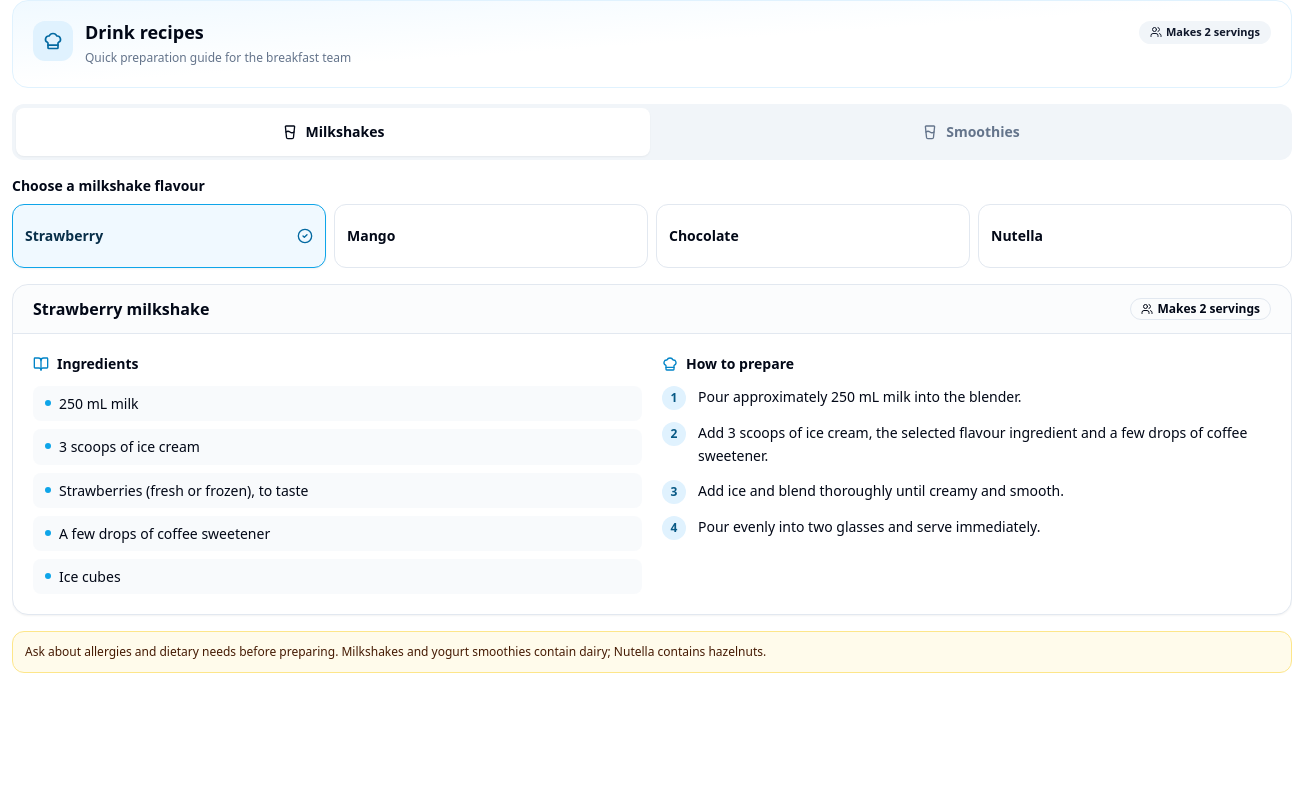
Test case: BreakfastRecipes › makes each of the three smoothie methods available
Click the button "Smoothies" at (971, 132), box [654,108,1288,156]
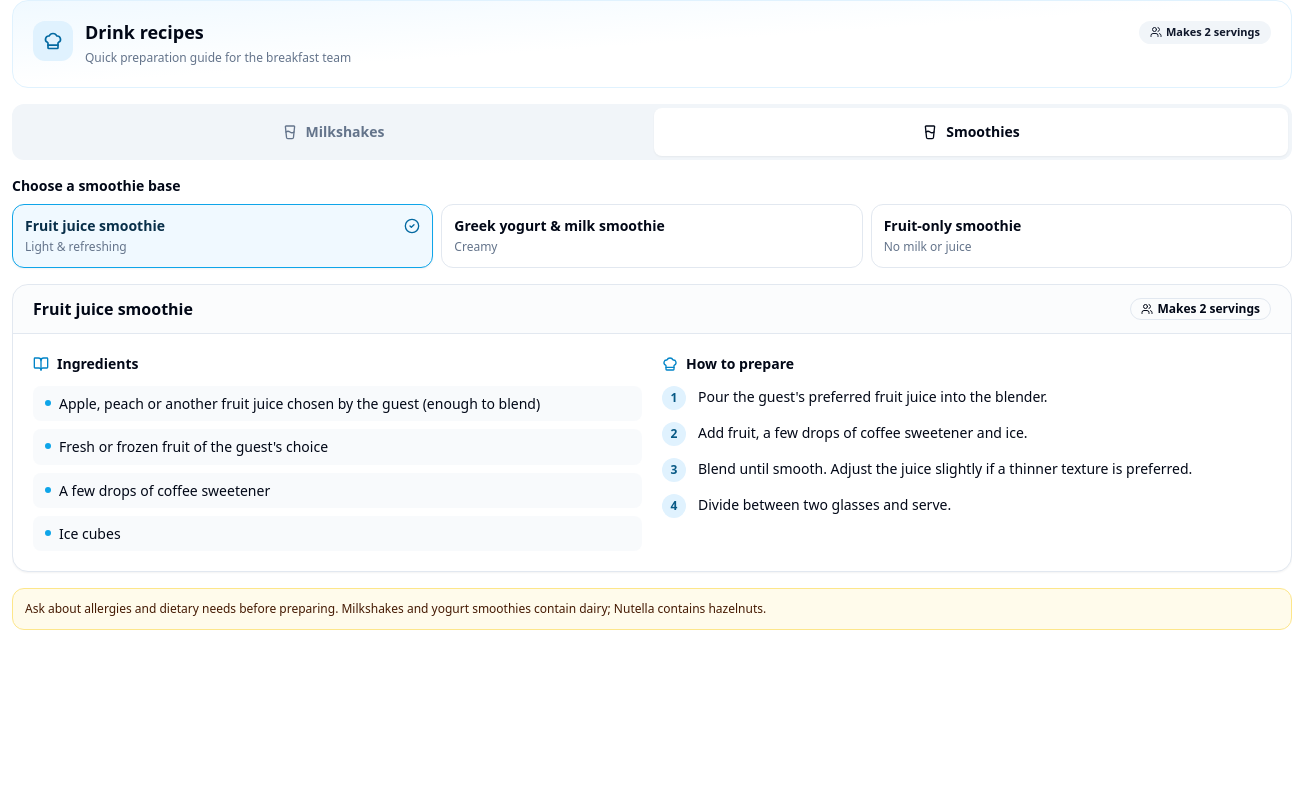
Expected: the button "Fruit juice smoothie Light & refreshing" is shown, [12,204,433,268]
Expected: the button "Greek yogurt & milk smoothie Creamy" is shown
Expected: the button "Fruit-only smoothie No milk or juice" is shown, [871,204,1292,268]
Click the button "Greek yogurt & milk smoothie Creamy" at (652, 236), box [441,204,863,268]
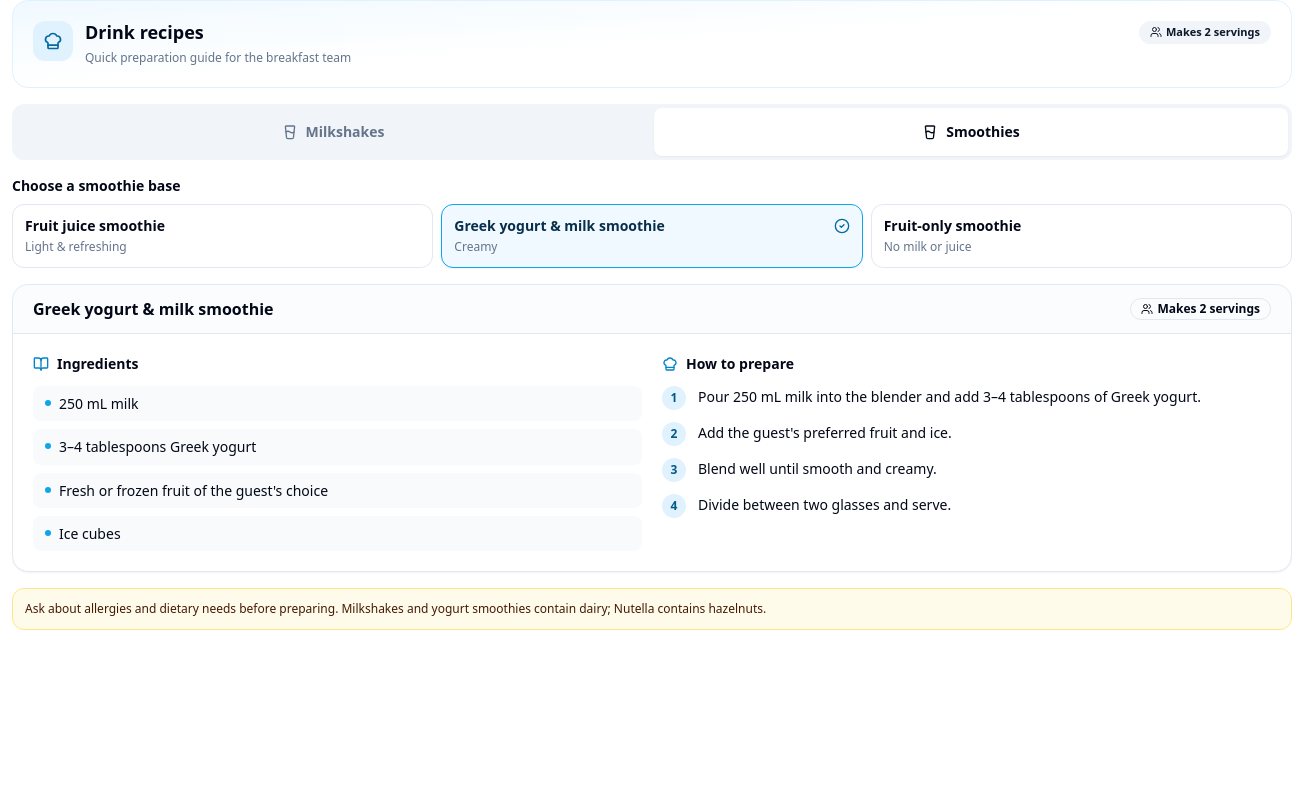
Expected: the text "3–4 tablespoons Greek yogurt" is shown, [59,437,256,457]
Click the button "Fruit-only smoothie No milk or juice" at (953, 226), box [871,204,1292,268]
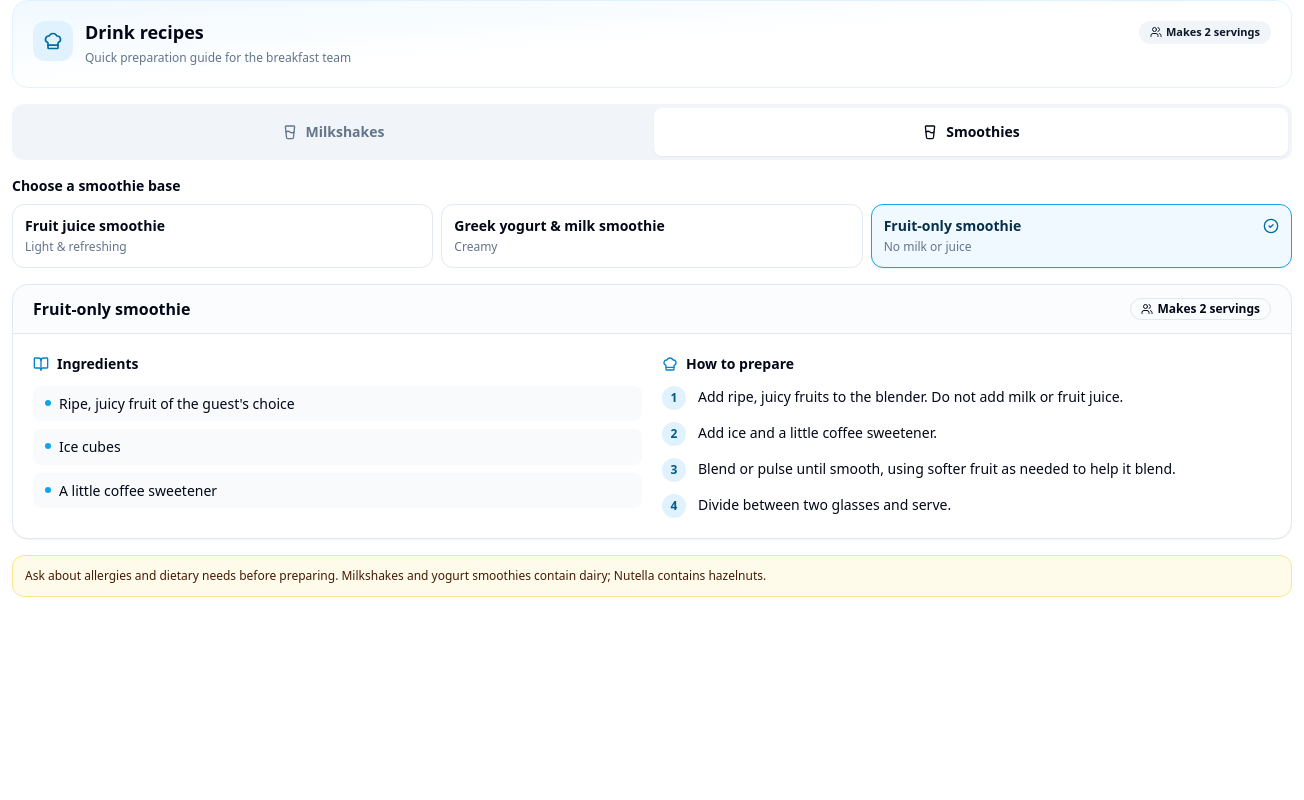
Expected: the text "Ripe, juicy fruit of the guest's choice" is shown, [59,394,295,413]
Expected: the text "250 mL milk" is gone
